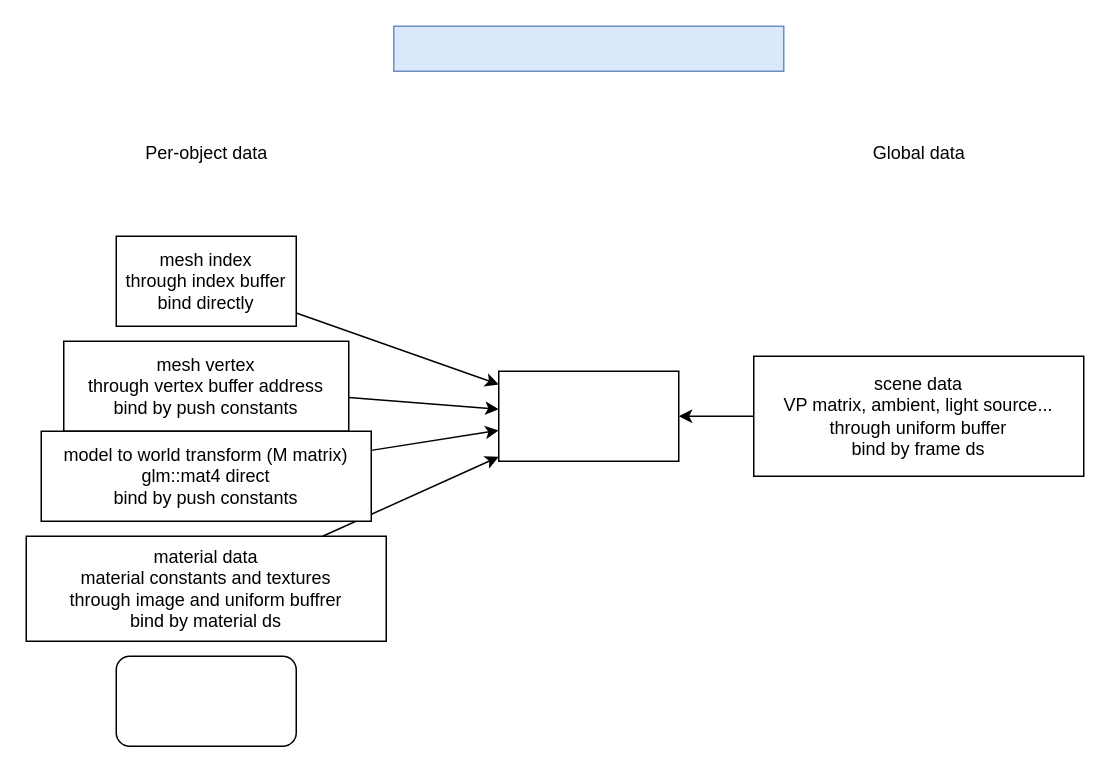
The diagram is 1110 pixels wide and 773 high, and some of its shapes have lost their labels. The centre of each missing label's shape, as x and y in pixels:
"draw call data" goes at pixel 588 415.
"pipeline is in MaterialInstance" goes at pixel 205 700.
"See Engine::drawGeometry():: drawObject()" goes at pixel 588 48.
